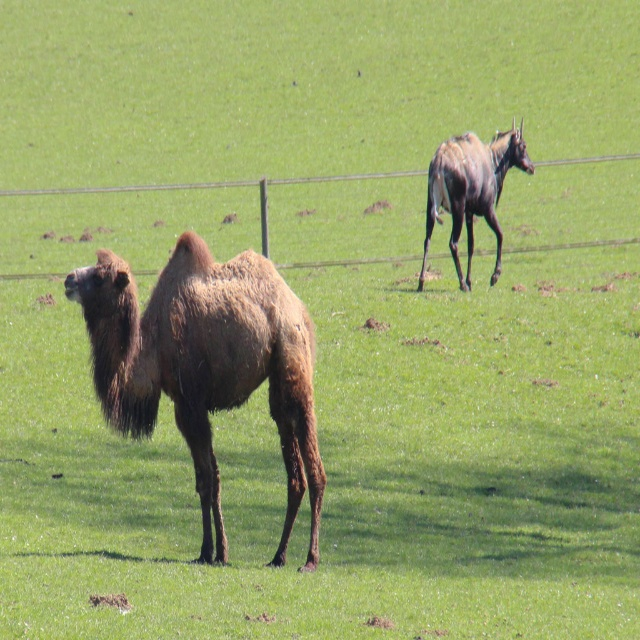Camel: (66, 230, 328, 575)
